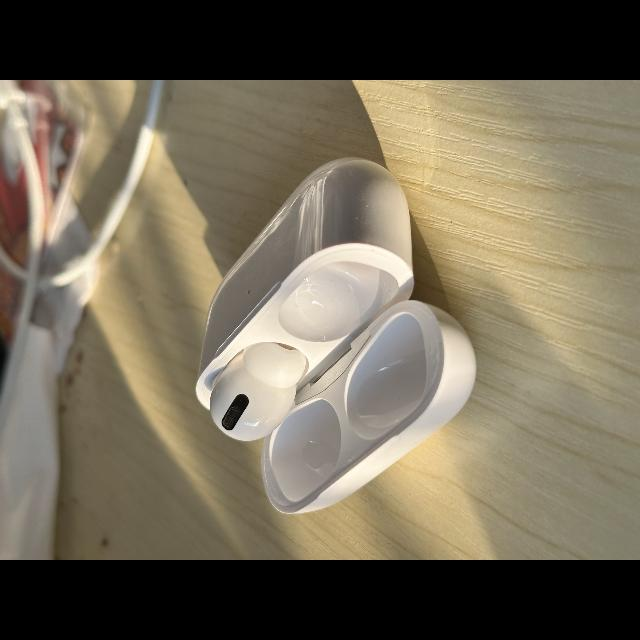AirPods Pro: (196, 157, 475, 513)
